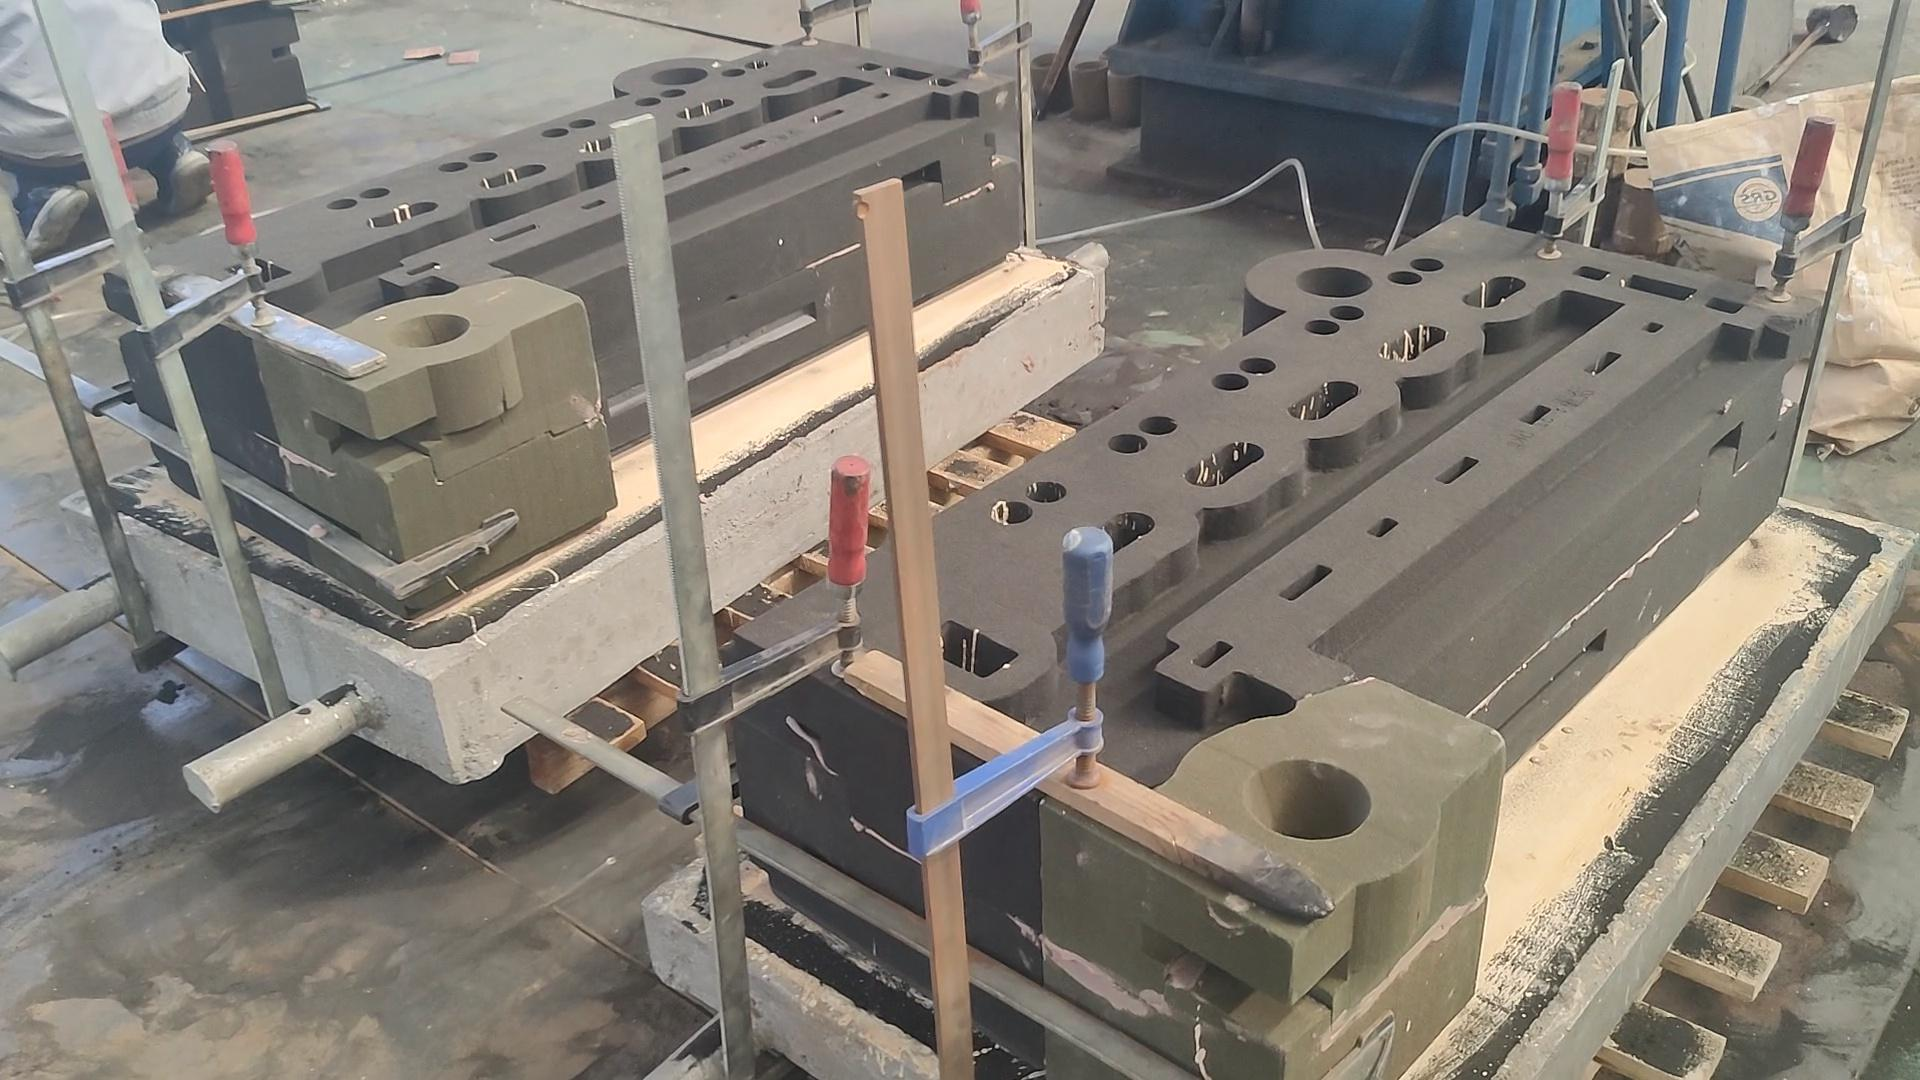pouring hole: (1244, 760, 1371, 840), (386, 310, 472, 351), (1294, 264, 1375, 298), (651, 66, 709, 88), (1030, 51, 1063, 69), (1106, 65, 1139, 78), (1072, 61, 1109, 71), (1100, 46, 1130, 58)
